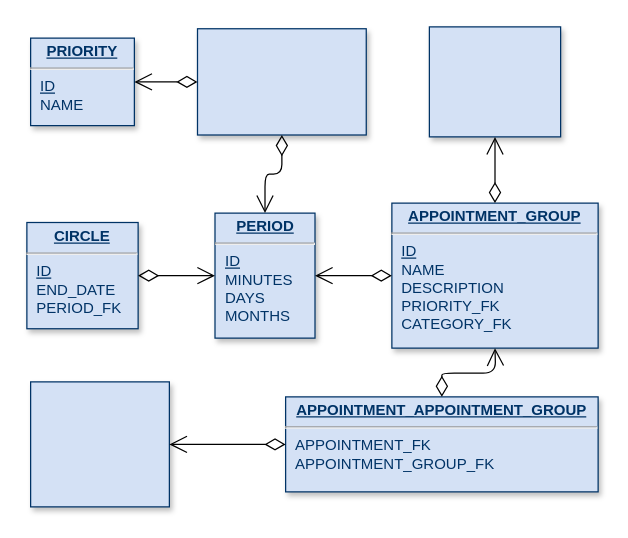
This 628x538 diagram has some shape labels left out. Each missing label, with the centre of its shape:
APPOINTMENT ID START_DATE END_DATE CIRCLE_FK: [100,446]
CATEGORY ID NAME DESCRIPTION: [495,83]
PRIORITY_PERIOD ID PRIORITY_FK PERIOD_FK: [282,83]
